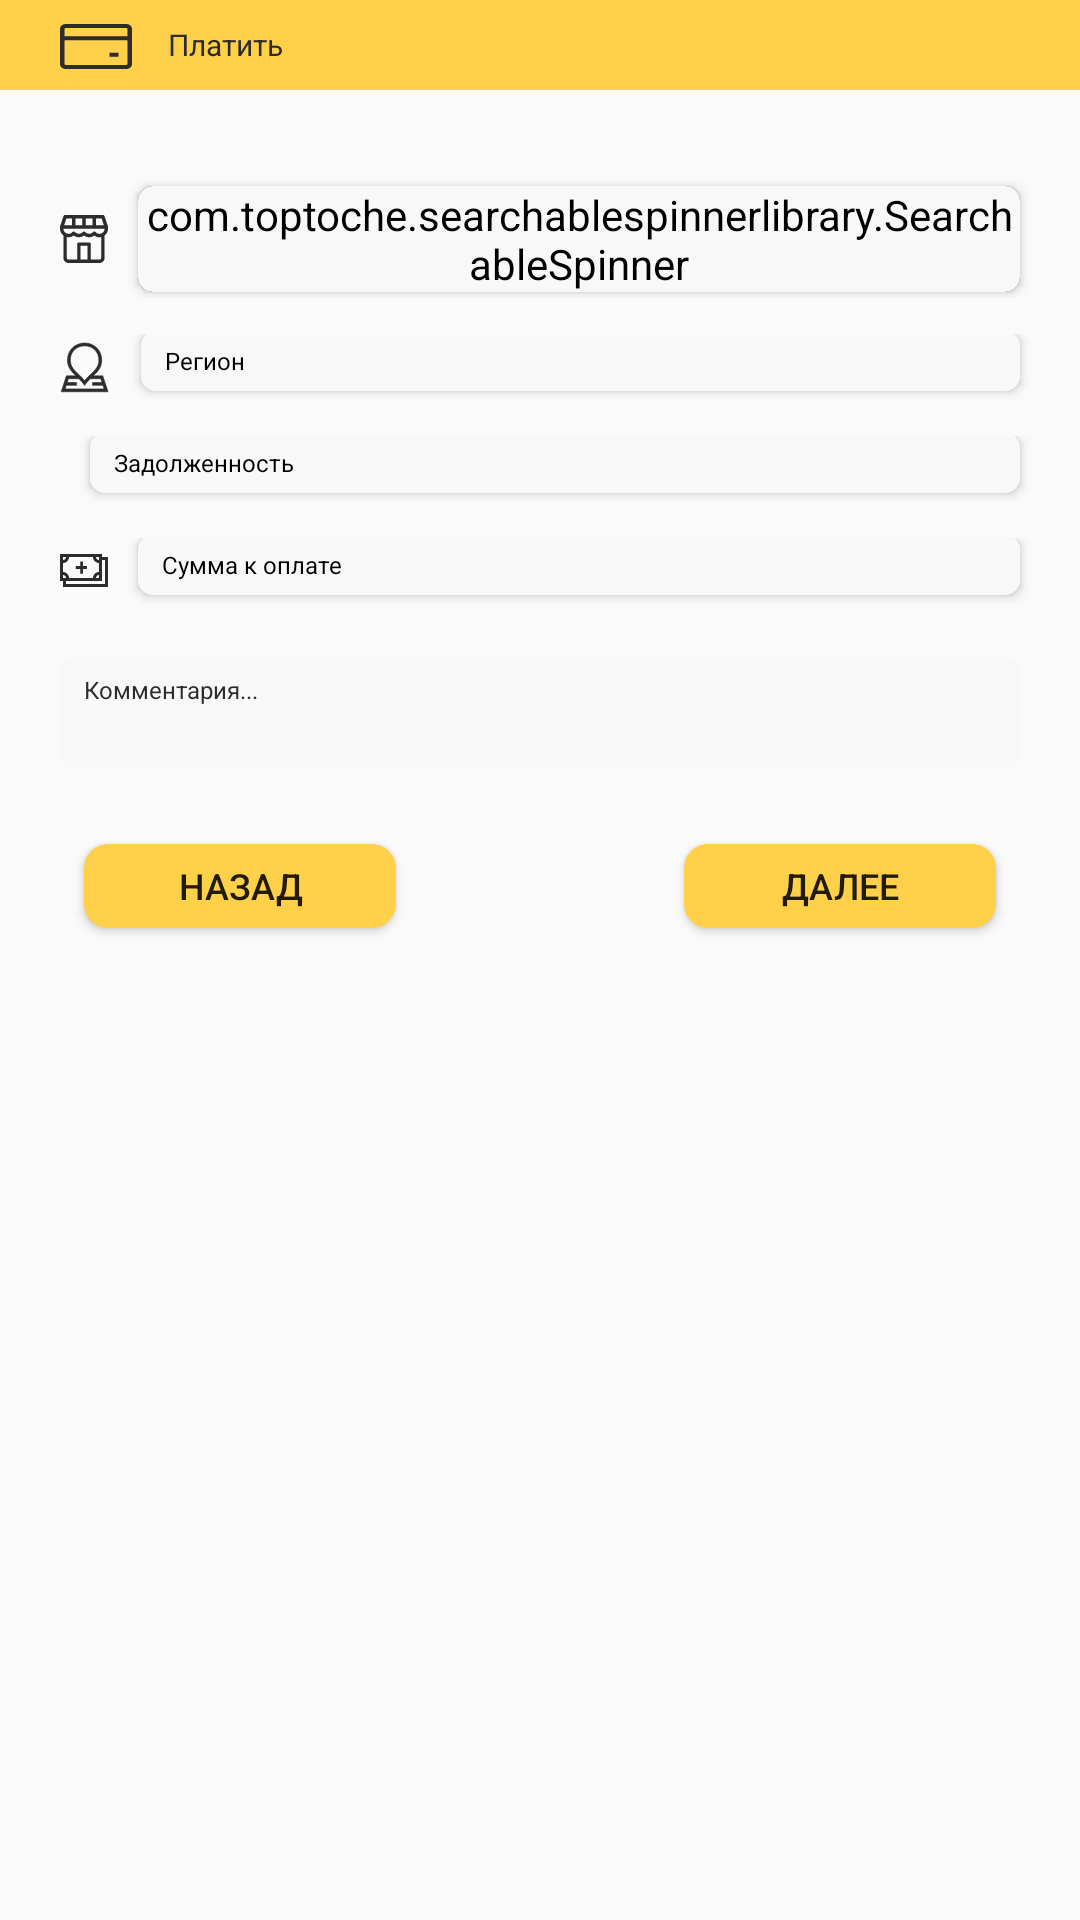

Locate icon controls on the screen. Image size 1080*1920, boxes as (x1, y1, x2, y2).
market: (60, 215, 108, 263)
market map: (61, 342, 109, 393)
money inc: (60, 554, 108, 587)
